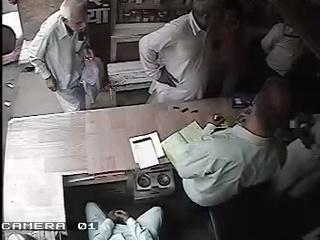Normal: (166, 76, 320, 240), (138, 0, 226, 104), (27, 0, 92, 114), (85, 202, 163, 239)
